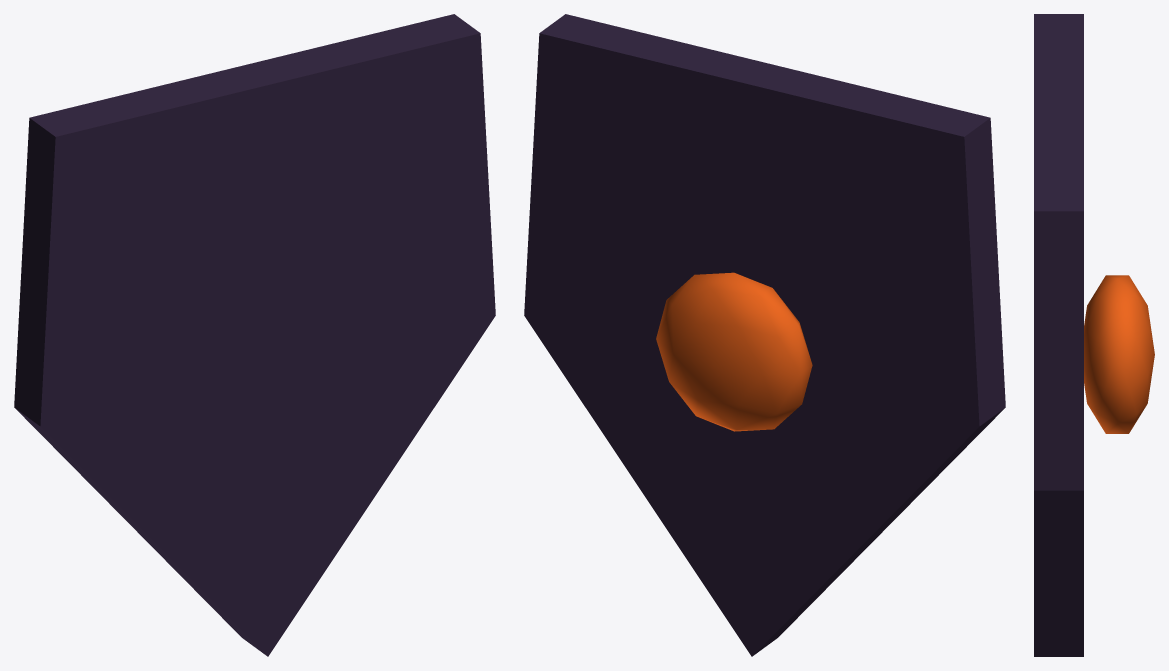
File: obsidian_shield.glb
3 renders of one model, left to right at view 1: azimuth 30°, elevation 25°; view 2: azimuth 150°, elevation 25°; view 3: azimuth 270°, elevation 25°, orthographic. The views are drawn at different scales.
Visible parts, largest first — view 1: obsidian_shield_v0; view 2: obsidian_shield_v0; view 3: obsidian_shield_v0.
Boxes of the visible parts, x1,y1,x2,y2 form: obsidian_shield_v0: (14,14,495,656); obsidian_shield_v0: (524,14,1005,656); obsidian_shield_v0: (1034,14,1154,656).
Bounding box in the file's own units: 0.3 × 0.36 × 0.0725.
